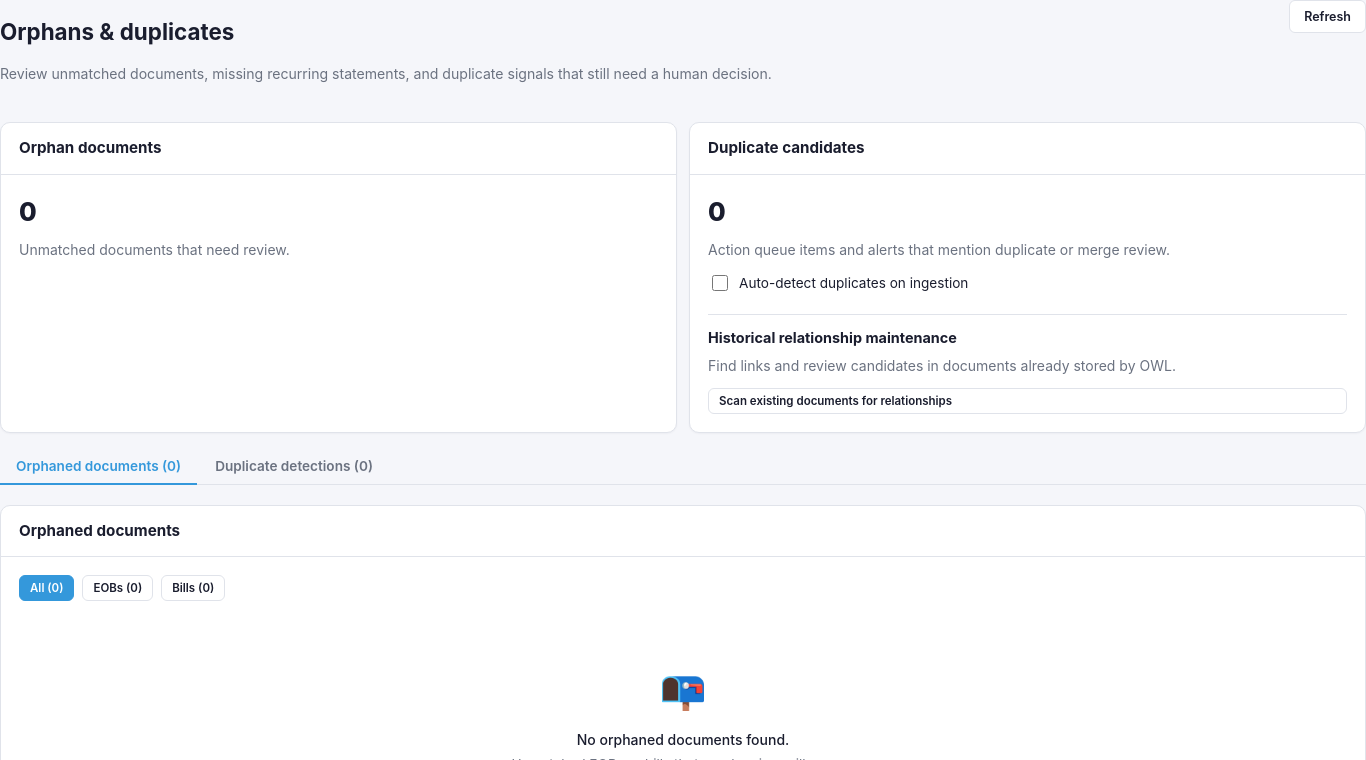
Test: OrphansDupes relationship maintenance › refreshes preview and reveals only fields for the selected scope
Click the button "Scan existing documents for relationships" at (836, 401), box [708,388,1347,414]
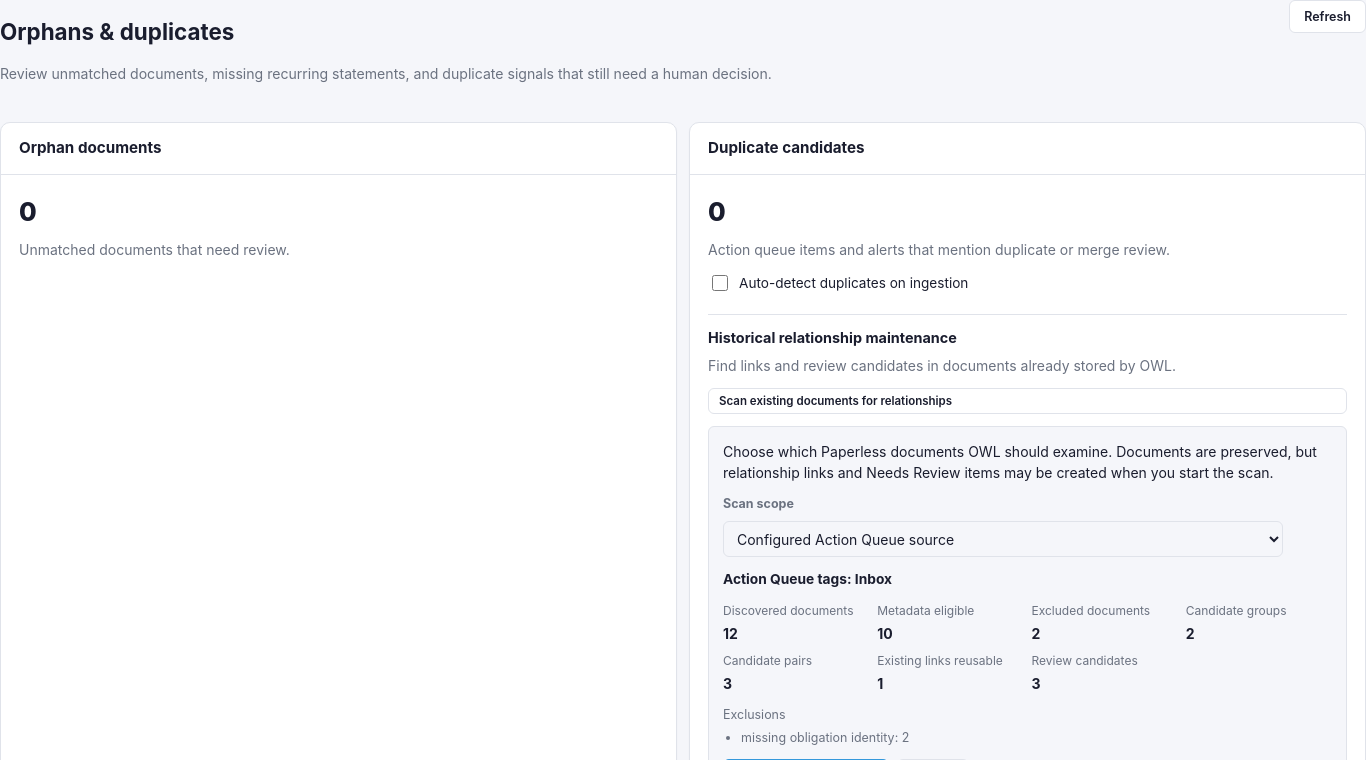
Select "Paperless saved view" in the dropdown labelled "Scan scope" at (1003, 539), box [723,521,1283,557]
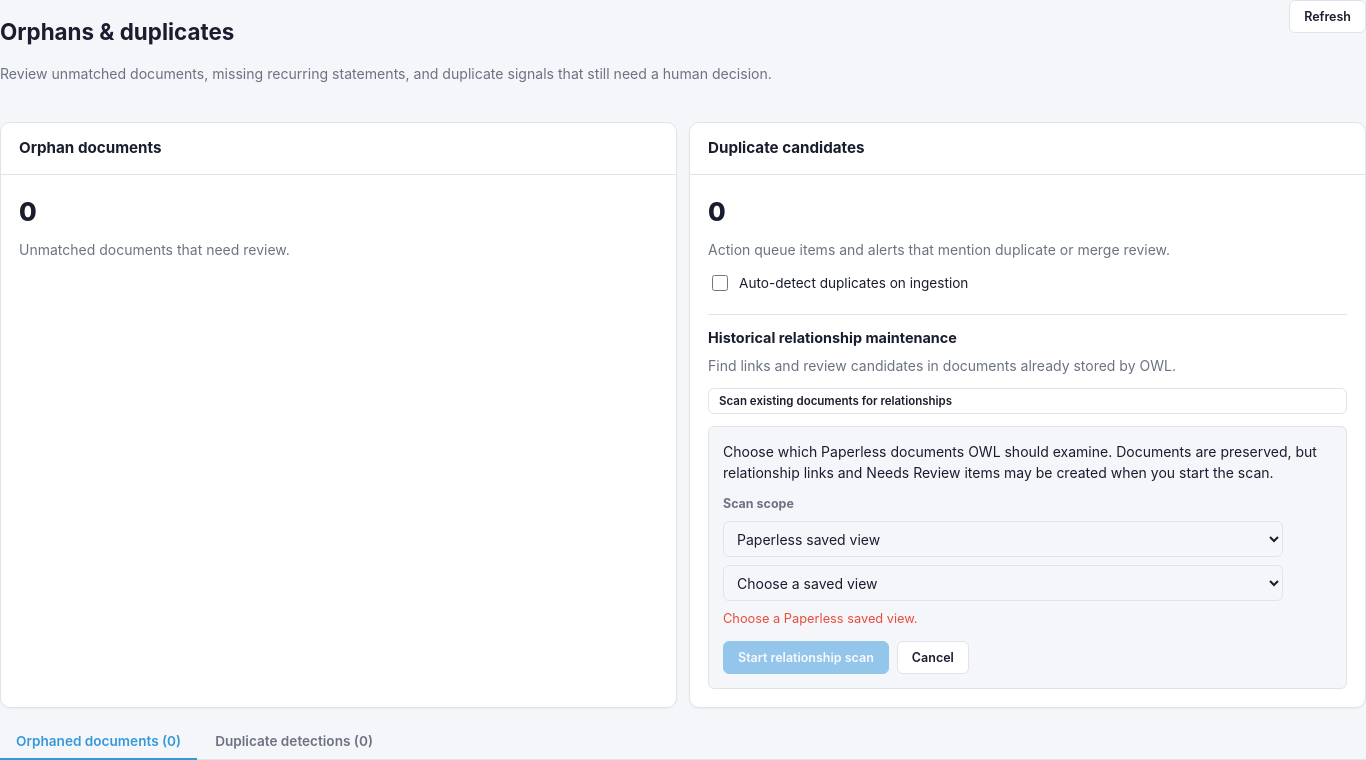
Now the dropdown named "Paperless saved view" is shown
Select "Relationship candidates" in the dropdown named "Paperless saved view" at (1003, 583), box [723,565,1283,601]
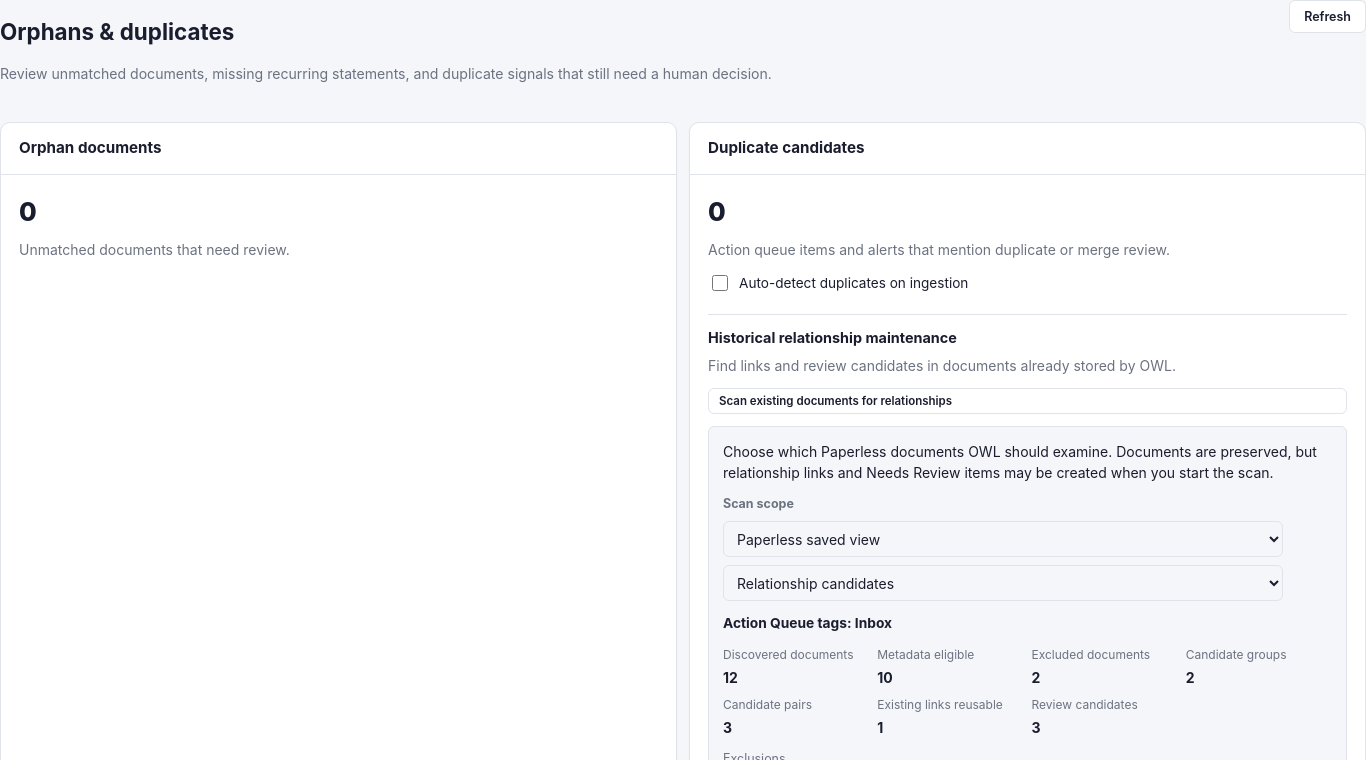
Select "All Paperless documents" in the dropdown labelled "Scan scope" at (1003, 539), box [723,521,1283,557]
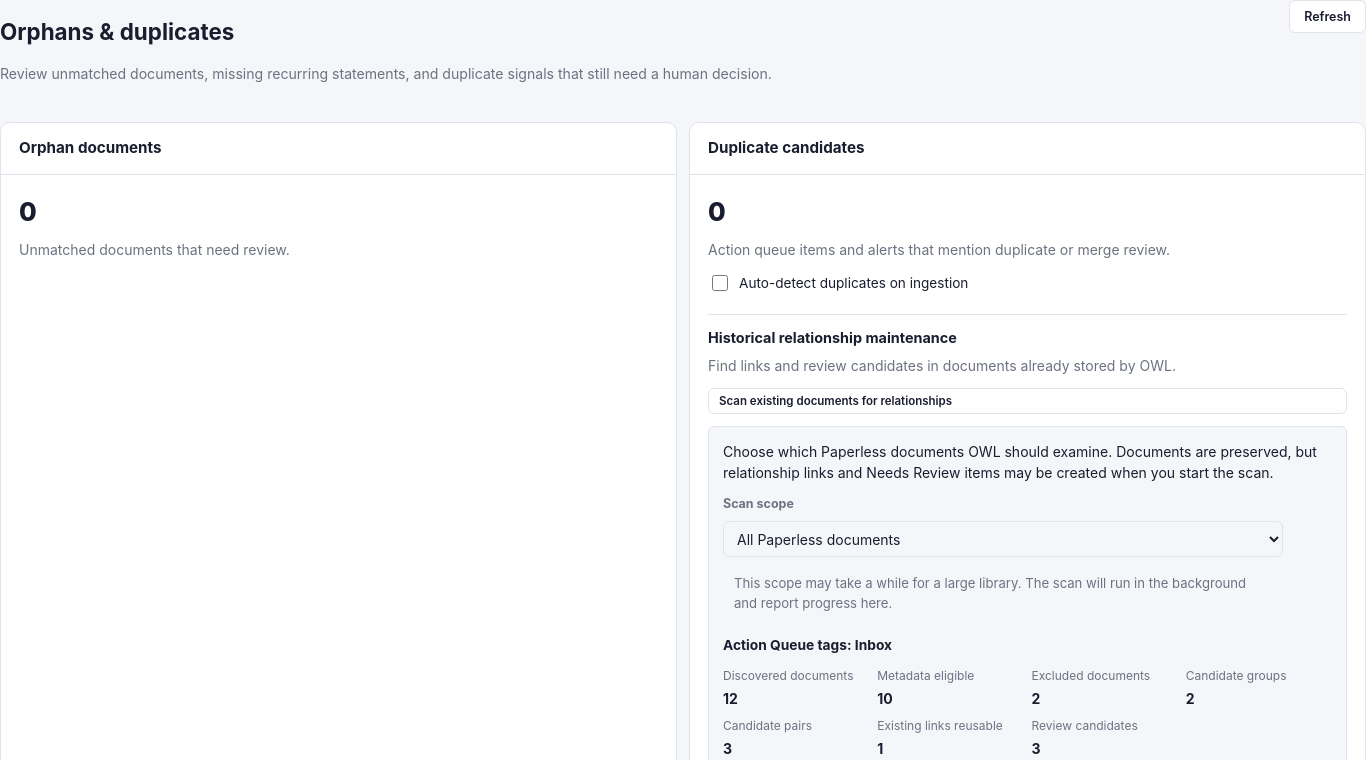
Now the text "may take a while for a large library" is shown, box [734,575,1246,611]
